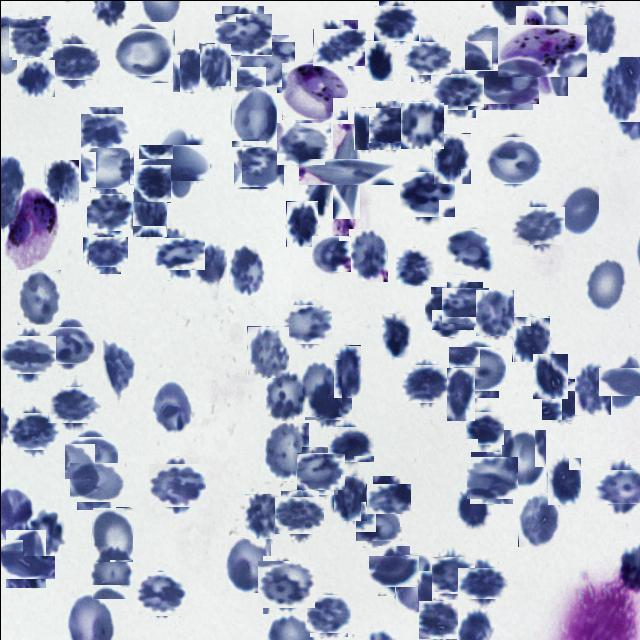red blood cell: (315, 140, 376, 201), (478, 49, 535, 106), (116, 24, 172, 78), (147, 135, 200, 189), (230, 85, 276, 146), (260, 422, 308, 480), (488, 133, 540, 186), (239, 37, 291, 89), (260, 558, 312, 610), (500, 428, 545, 488), (451, 343, 502, 394), (599, 56, 639, 121), (224, 536, 270, 592), (152, 460, 202, 510), (402, 169, 452, 219), (218, 9, 268, 59), (82, 140, 132, 190), (16, 269, 61, 324), (0, 534, 50, 582), (136, 569, 184, 618), (279, 119, 328, 167), (300, 359, 341, 416), (66, 433, 114, 481), (584, 258, 626, 312), (517, 492, 559, 546), (235, 139, 282, 187), (4, 330, 51, 378), (91, 506, 132, 561), (151, 379, 192, 433), (72, 458, 119, 505), (446, 226, 492, 274), (394, 553, 432, 611), (556, 184, 598, 236), (246, 325, 288, 377), (468, 454, 514, 501), (226, 241, 266, 295), (46, 322, 92, 368), (514, 202, 560, 248), (466, 25, 512, 71), (316, 24, 362, 70), (90, 546, 130, 598), (50, 382, 96, 427), (399, 101, 443, 148), (348, 228, 387, 281), (434, 68, 479, 113), (50, 38, 94, 84), (266, 370, 306, 420), (403, 360, 448, 404), (100, 339, 136, 394), (432, 132, 470, 183), (11, 408, 55, 452), (284, 302, 328, 346), (574, 361, 610, 414), (299, 448, 342, 492), (306, 378, 349, 422), (428, 553, 471, 596), (278, 492, 320, 536), (599, 463, 640, 508), (22, 509, 62, 555), (576, 6, 616, 52), (426, 290, 469, 332), (372, 103, 414, 146), (542, 379, 584, 421), (443, 284, 485, 326), (88, 190, 130, 232), (158, 232, 200, 274), (9, 17, 52, 58), (512, 316, 550, 362), (475, 289, 513, 335), (307, 593, 349, 634), (330, 422, 370, 463), (407, 38, 448, 78), (84, 110, 125, 150), (372, 550, 413, 590), (546, 456, 580, 504), (244, 493, 280, 538), (193, 241, 228, 287), (131, 190, 166, 236), (358, 504, 398, 544), (462, 562, 502, 602), (376, 2, 416, 42), (532, 353, 567, 398), (332, 474, 366, 520), (44, 158, 78, 204), (394, 247, 434, 286), (353, 106, 389, 149), (176, 138, 211, 182), (454, 485, 489, 528), (285, 200, 317, 247), (171, 47, 205, 91), (446, 367, 474, 420), (85, 232, 124, 270), (16, 59, 54, 98), (418, 600, 457, 638), (305, 166, 334, 217), (604, 360, 640, 401), (311, 234, 349, 272), (368, 480, 406, 518), (333, 344, 360, 397), (133, 164, 170, 202), (379, 312, 410, 357), (198, 42, 230, 85), (466, 410, 502, 446), (363, 39, 392, 80)
trophozoite: (506, 15, 576, 86), (6, 187, 58, 267), (282, 60, 344, 122)
